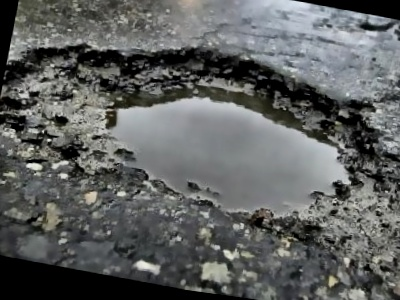pothole: (0, 6, 400, 252)
